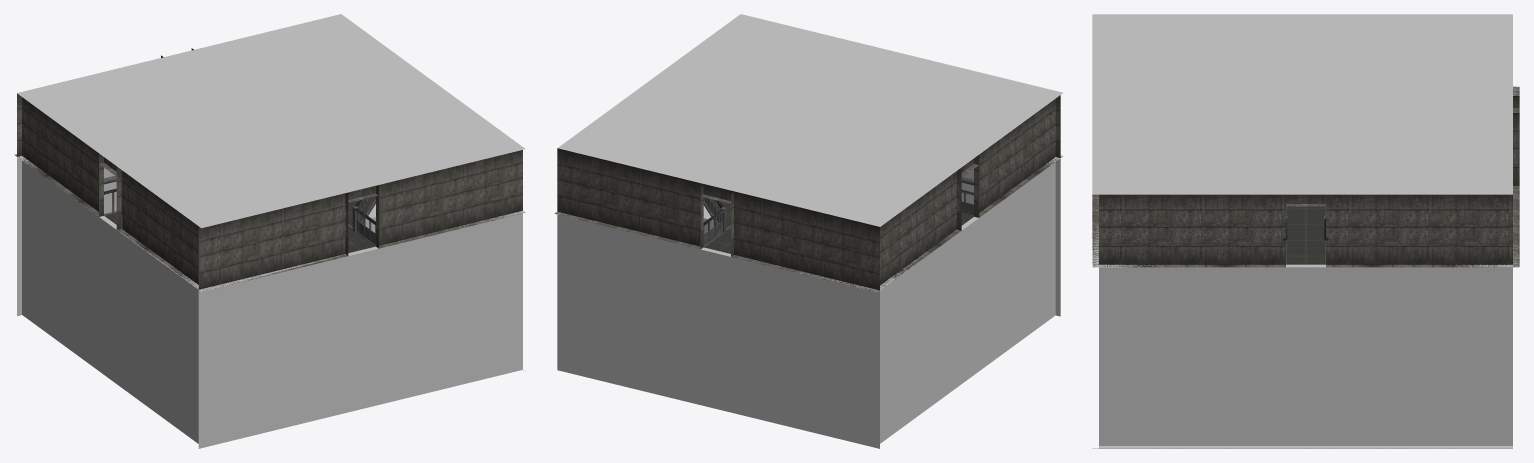
File: Room4_1_HCZ.fbx
3 views of the same model, side by side, from view 1: azimuth 30°, elevation 25°; view 2: azimuth 150°, elevation 25°; view 3: azimuth 270°, elevation 25° (orthographic). The views are drawn at different scales.
Visible parts, largest first — view 1: Room4_26_HCZ; view 2: Room4_26_HCZ; view 3: Room4_26_HCZ.
Boxes of the visible parts, left/top/right/bottom form: Room4_26_HCZ: left=14, top=14, right=525, bottom=448; Room4_26_HCZ: left=554, top=14, right=1063, bottom=448; Room4_26_HCZ: left=1092, top=14, right=1519, bottom=448.
Bounding box in the file's own units: 20.48 × 13.46 × 20.48.
